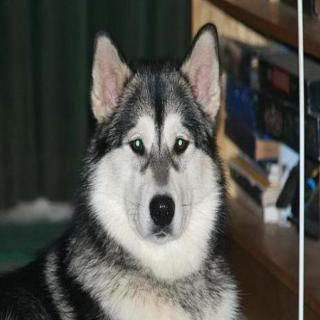dog: (85, 19, 234, 265)
nose: (147, 189, 177, 227)
